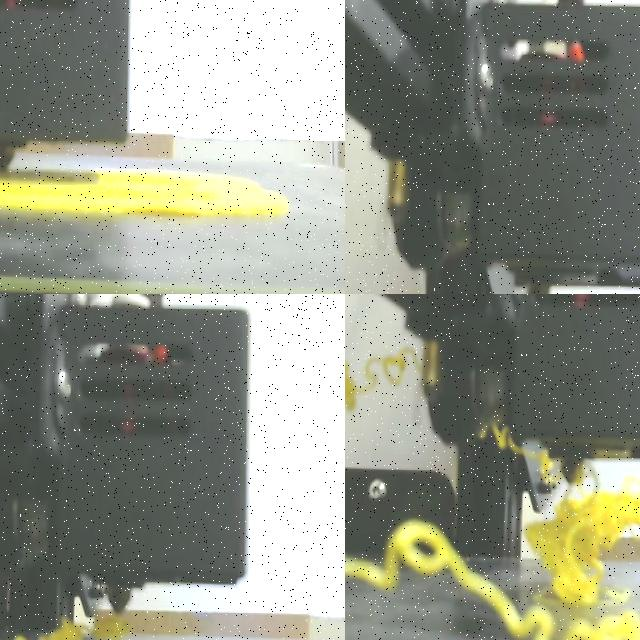spaghetti: (345, 520, 640, 640), (526, 477, 640, 606), (365, 352, 409, 386), (92, 613, 128, 640), (345, 364, 365, 404)
